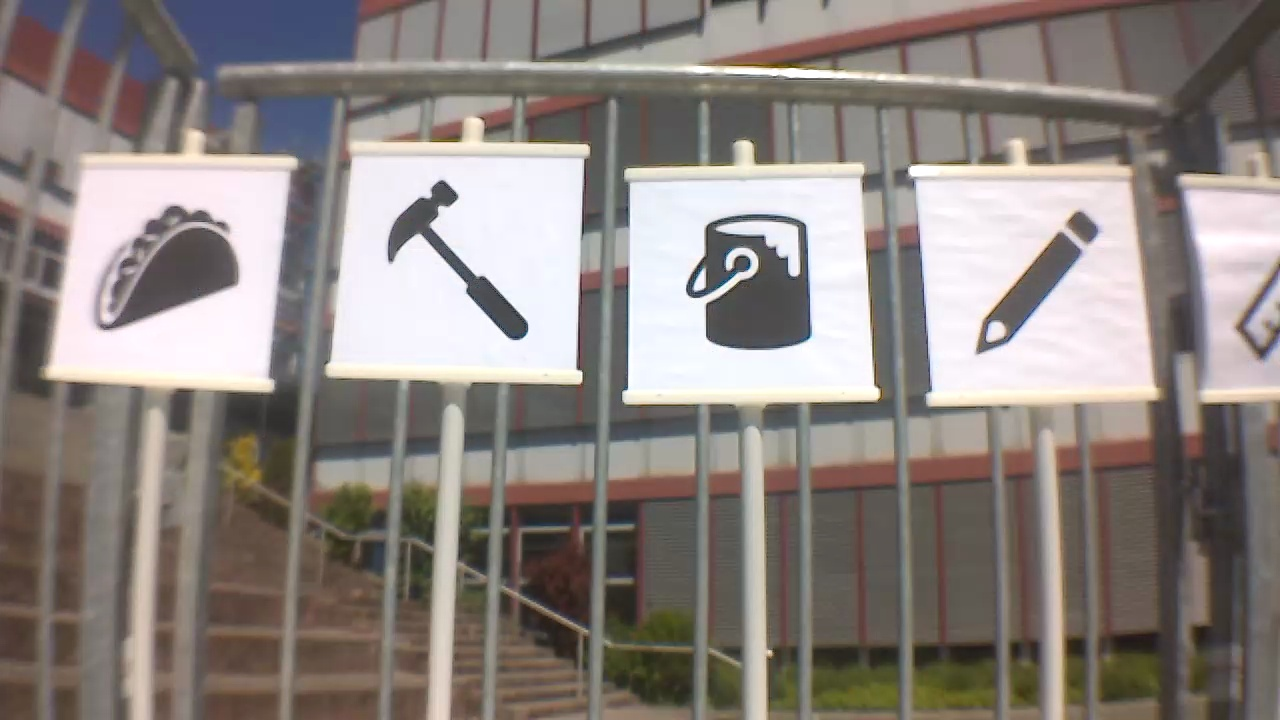bucket: (672, 209, 810, 353)
hammer: (374, 176, 534, 342)
pencil: (967, 202, 1106, 361)
ruler: (1232, 179, 1280, 353)
taco: (86, 203, 261, 341)
